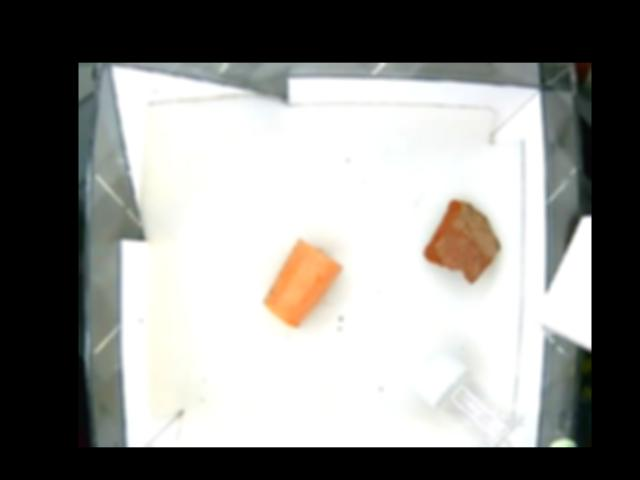Bottle: (410, 351, 519, 446)
Brisk: (422, 199, 500, 286)
Carrot: (264, 235, 343, 327)
